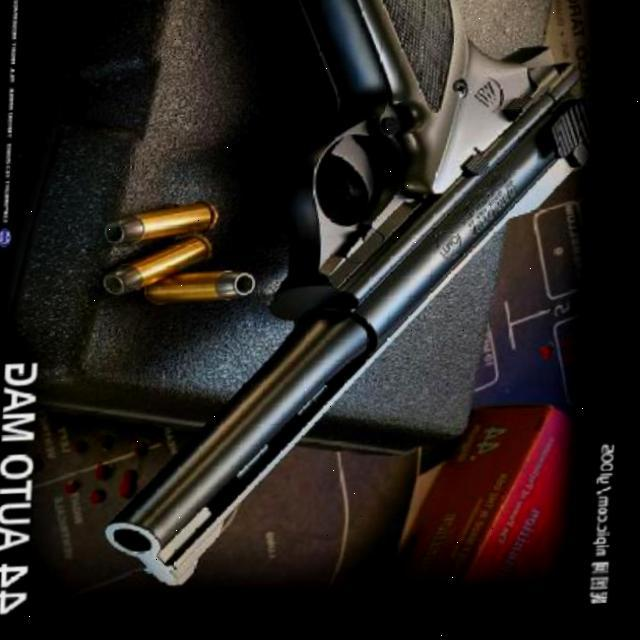gun: (102, 0, 591, 599)
